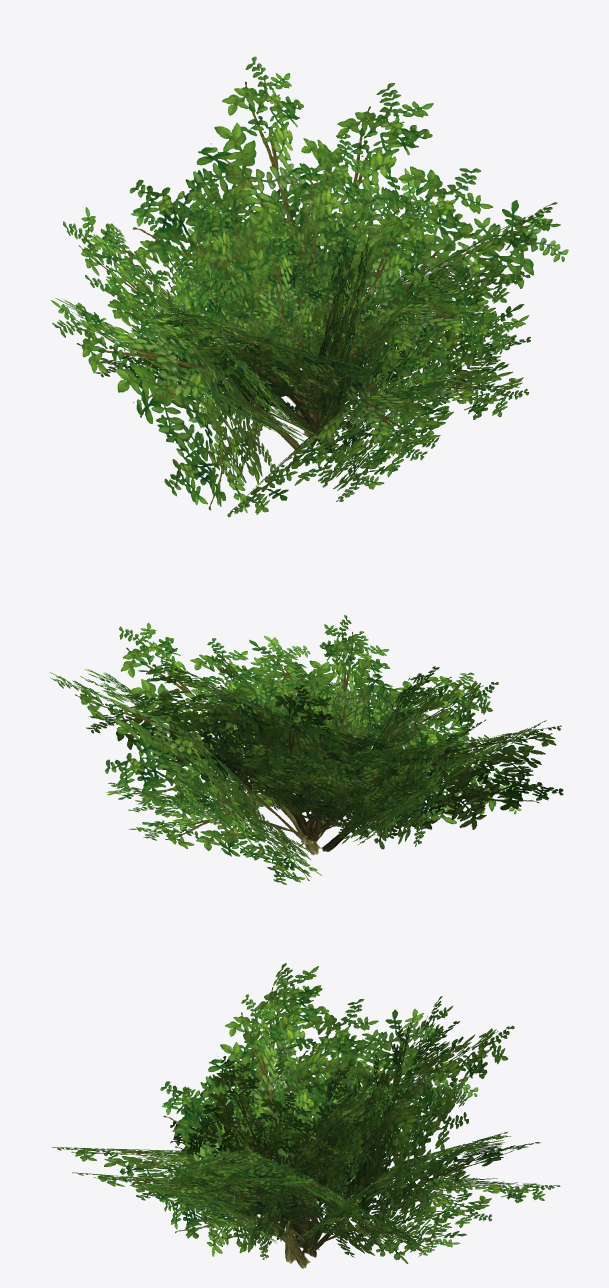
The model's file is guanmu_022.FBX.
3 views of the same model, one above another, from view 1: azimuth 30°, elevation 25°; view 2: azimuth 150°, elevation 25°; view 3: azimuth 270°, elevation 25° (orthographic). The views are drawn at different scales.
Visible parts, largest first — view 1: guanmu_022_02; view 2: guanmu_022_02; view 3: guanmu_022_02.
Boxes of the visible parts, <box> form: guanmu_022_02: <box>51,56,568,517</box>; guanmu_022_02: <box>49,615,563,884</box>; guanmu_022_02: <box>51,963,560,1268</box>.
Bounding box in the file's own units: 1.13 × 0.6116 × 1.12.
